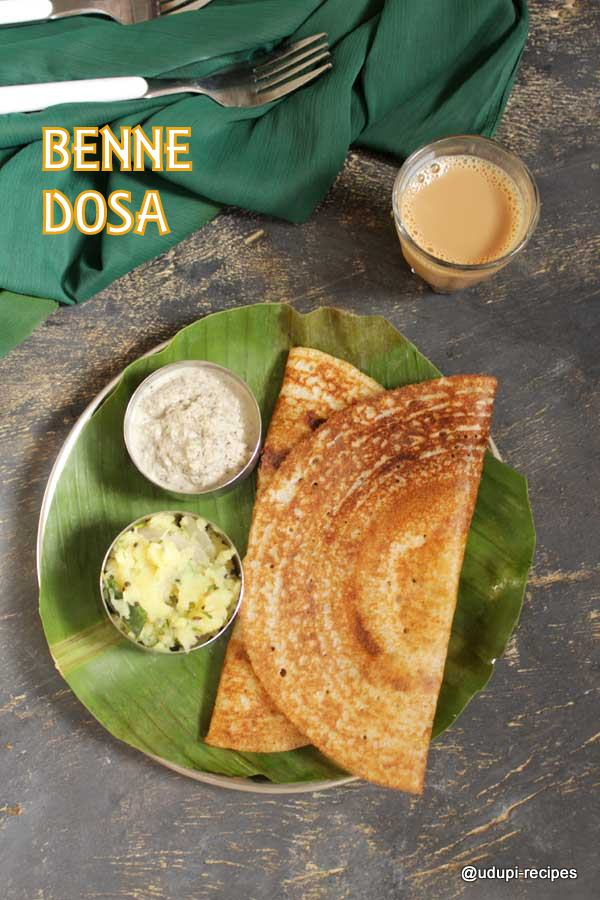dosa: (205, 335, 499, 801)
